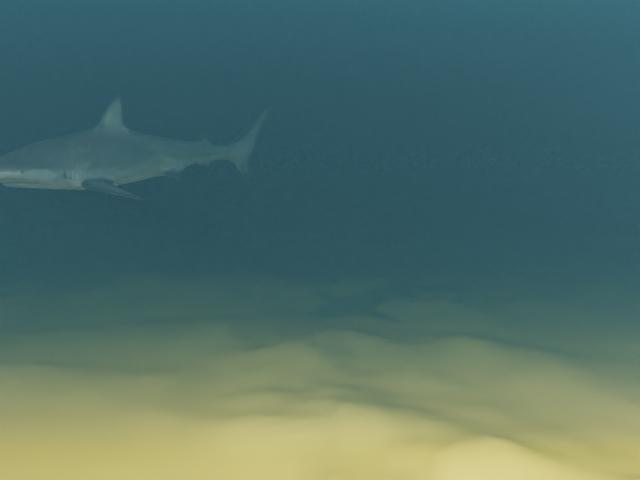Carribean Shark.001: (0, 94, 273, 200)
